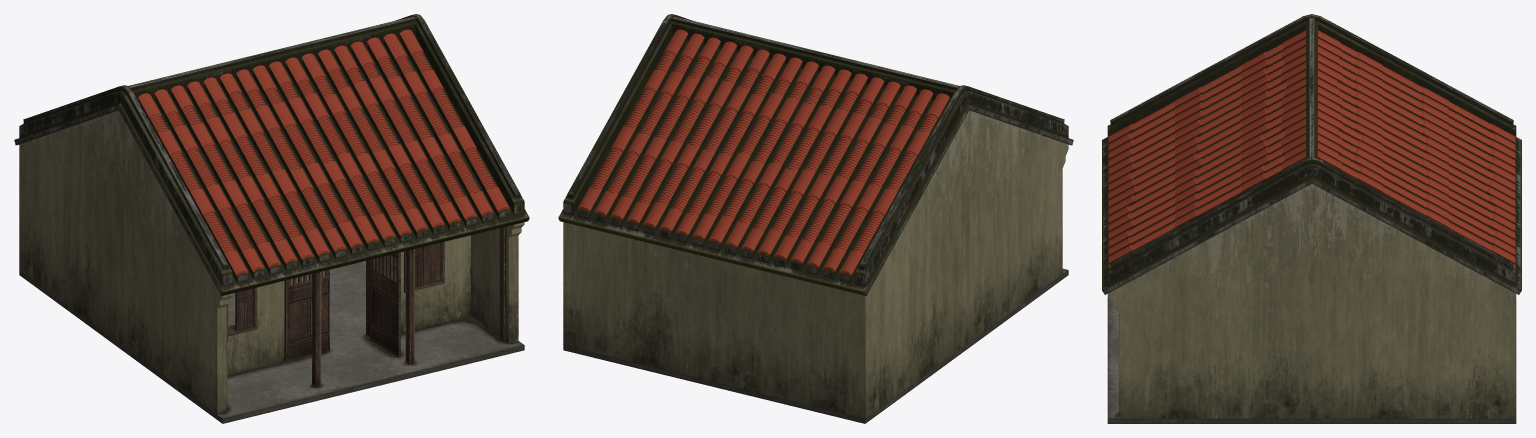
File: uploads_files_2279663_HoiAnHouse_M2.fbx
3 renders of one model, left to right at view 1: azimuth 30°, elevation 25°; view 2: azimuth 150°, elevation 25°; view 3: azimuth 270°, elevation 25°, orthographic.
Visible parts, largest first — view 1: HoiAn_M2; view 2: HoiAn_M2; view 3: HoiAn_M2.
Part boxes in pixels (box(x1,y1,x2,y2)): HoiAn_M2: box(14, 14, 529, 423); HoiAn_M2: box(558, 14, 1073, 423); HoiAn_M2: box(1102, 14, 1521, 423).
Size of the model in its own units: 610 by 497 by 719.
